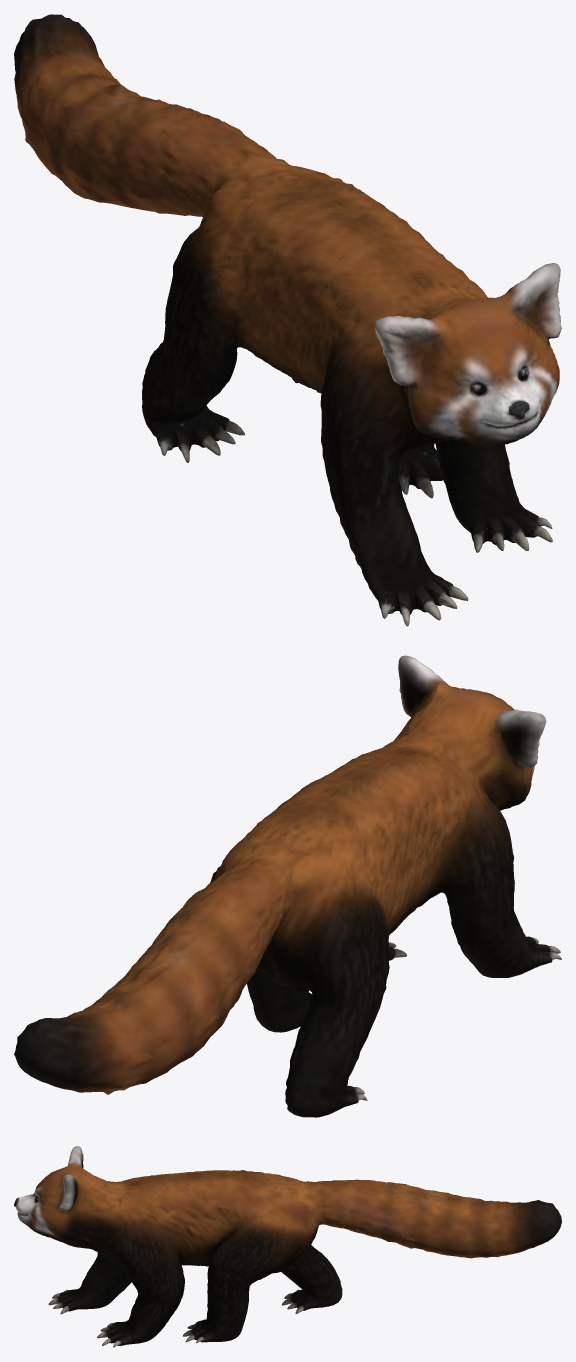
Rendered from MZ4250 - Red Panda.glb.
3 views of the same model, one above another, from view 1: azimuth 30°, elevation 25°; view 2: azimuth 150°, elevation 25°; view 3: azimuth 270°, elevation 25° (orthographic). The views are drawn at different scales.
Parts seen in each view (by area): view 1: ORGANIC BASE SPHERE.001; view 2: ORGANIC BASE SPHERE.001; view 3: ORGANIC BASE SPHERE.001.
Part boxes in pixels (x1,y1,x2,y2): ORGANIC BASE SPHERE.001: (14, 14, 561, 626); ORGANIC BASE SPHERE.001: (14, 655, 561, 1117); ORGANIC BASE SPHERE.001: (14, 1146, 561, 1347).
Size of the model in its own units: 19.48 by 26.82 by 81.28.
1 material, 1 textured.
